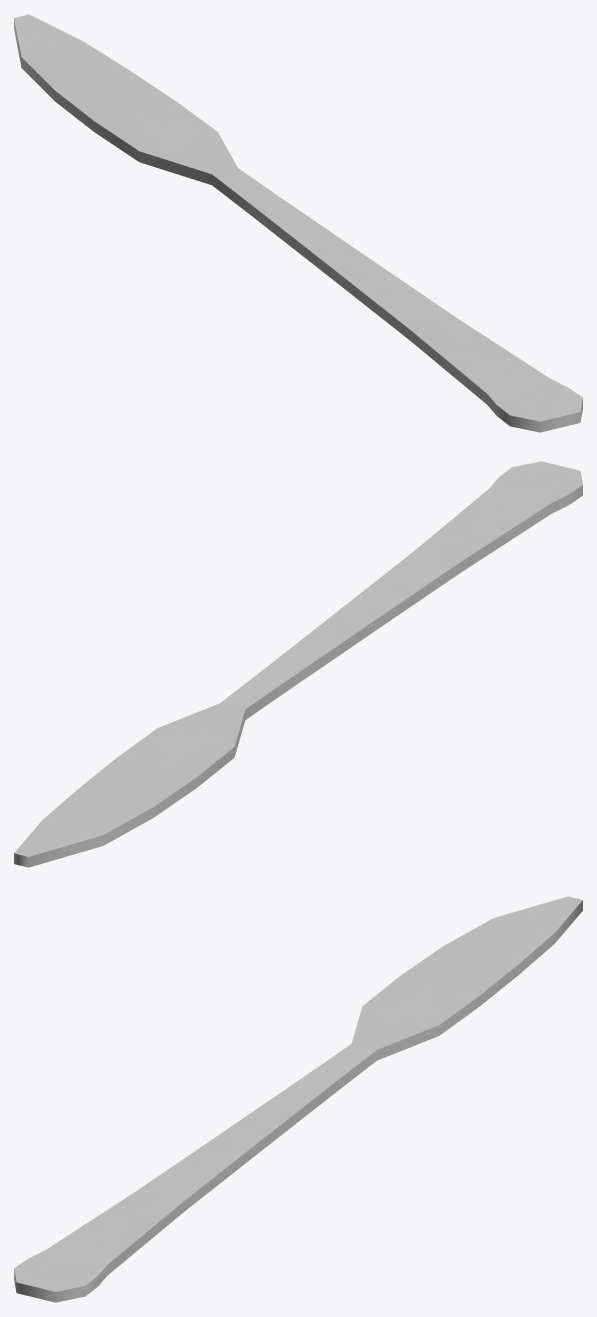
The model's file is Knife.fbx.
3 views of the same model, one above another, from view 1: azimuth 30°, elevation 25°; view 2: azimuth 150°, elevation 25°; view 3: azimuth 330°, elevation 25° (orthographic). The views are drawn at different scales.
Visible parts, largest first — view 1: Knife; view 2: Knife; view 3: Knife.
Part boxes in pixels (<box>): Knife: <box>14,14,582,432</box>; Knife: <box>14,461,582,867</box>; Knife: <box>14,896,582,1302</box>.
Size of the model in its own units: 1.85 by 0.2336 by 21.
